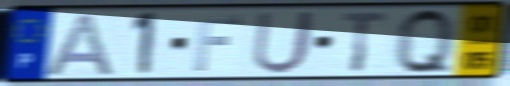1: (128, 9, 161, 78)
A: (40, 11, 117, 78)
F: (191, 14, 245, 73)
Q: (395, 5, 455, 77)
T: (339, 10, 390, 74)
U: (250, 9, 319, 76)
